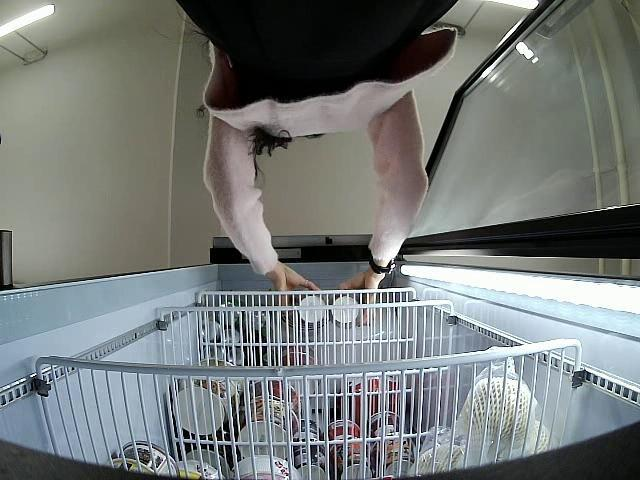04_chapagetti_S: (332, 296, 360, 329), (300, 296, 326, 322)
